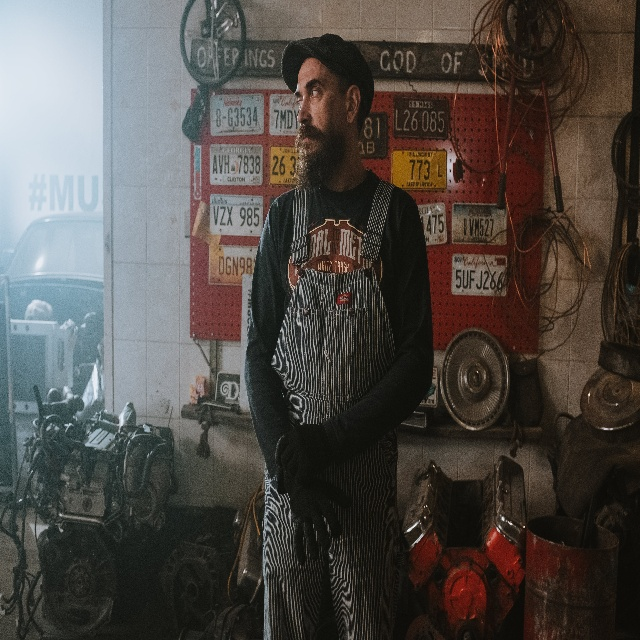Guantes: (283, 466, 350, 566), (275, 423, 334, 485)
